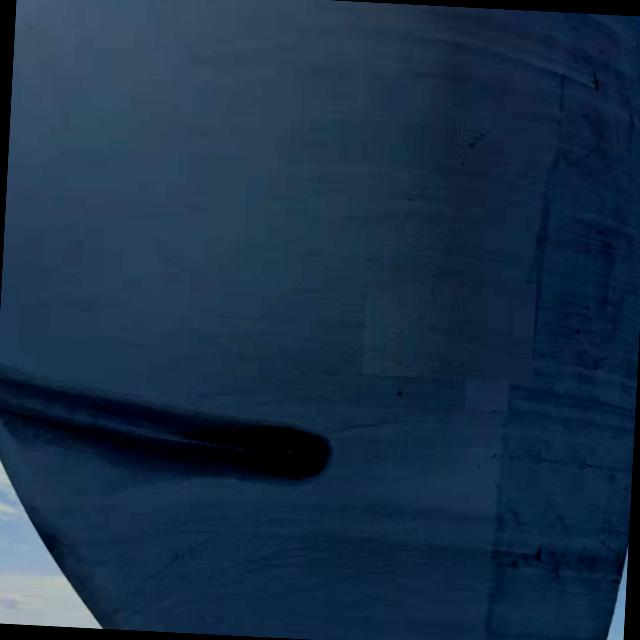crack: (26, 377, 347, 499)
